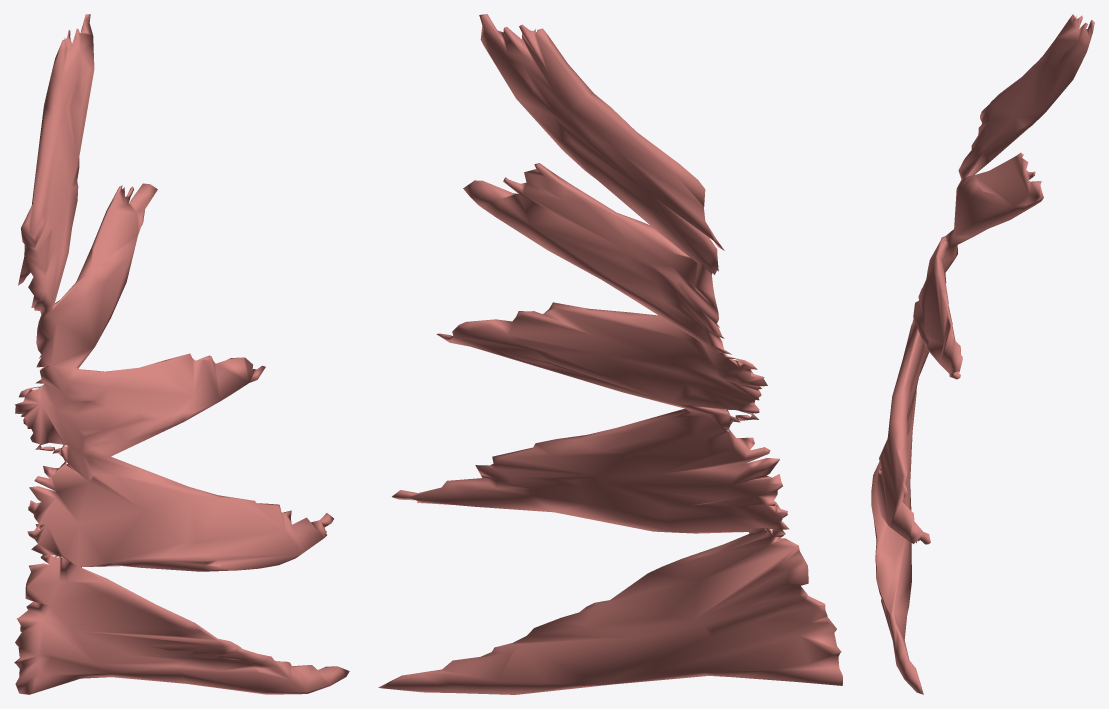
3 renders of one model, left to right at view 1: azimuth 30°, elevation 25°; view 2: azimuth 150°, elevation 25°; view 3: azimuth 270°, elevation 25°, orthographic. The views are drawn at different scales.
Parts seen in each view (by area): view 1: ZA_1b3debc6f057550e; view 2: ZA_1b3debc6f057550e; view 3: ZA_1b3debc6f057550e.
Part boxes in pixels (<box>): ZA_1b3debc6f057550e: <box>14,14,349,694</box>; ZA_1b3debc6f057550e: <box>378,14,842,694</box>; ZA_1b3debc6f057550e: <box>871,14,1094,694</box>.
Size of the model in its own units: 0.0855 by 0.149 by 0.0505.
